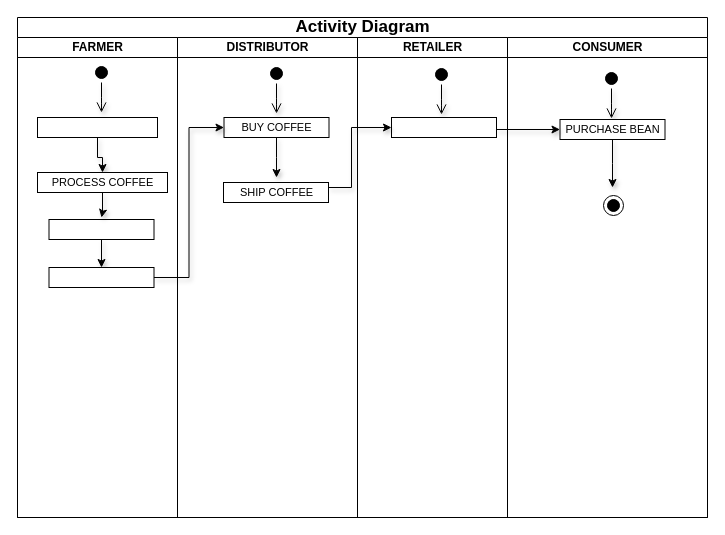
Some shapes in this 725 by 535 pixel diagram are drawn without their labels. The centre of each missing label's shape, as x and y in pixels:
"HARVEST COFFEE" goes at point (97, 127).
"PACK COFFEE" goes at point (101, 229).
"RECEIVE BEAN" goes at point (443, 127).
"SELL COFFEE" goes at point (101, 277).
